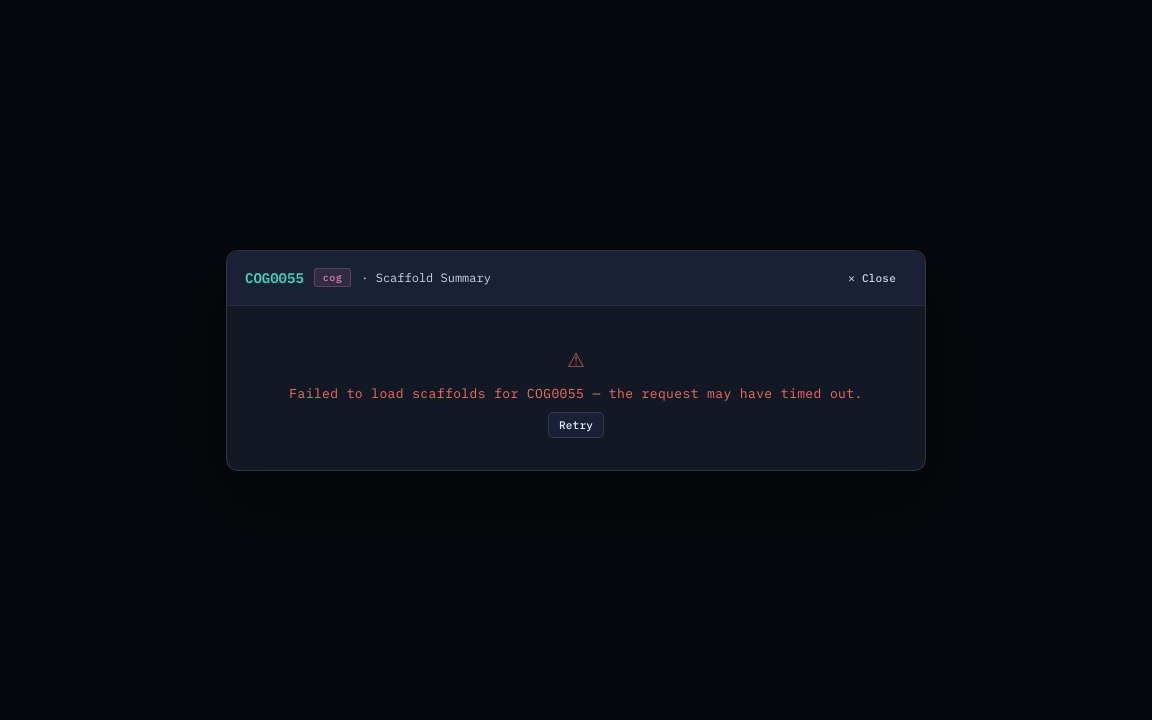
it: ScaffoldModal — loading / error / empty states › clicking retry shows loading state again while in flight
Step 1. Click the button with test id "retry-btn" → click(576, 424), box [548, 412, 604, 438]
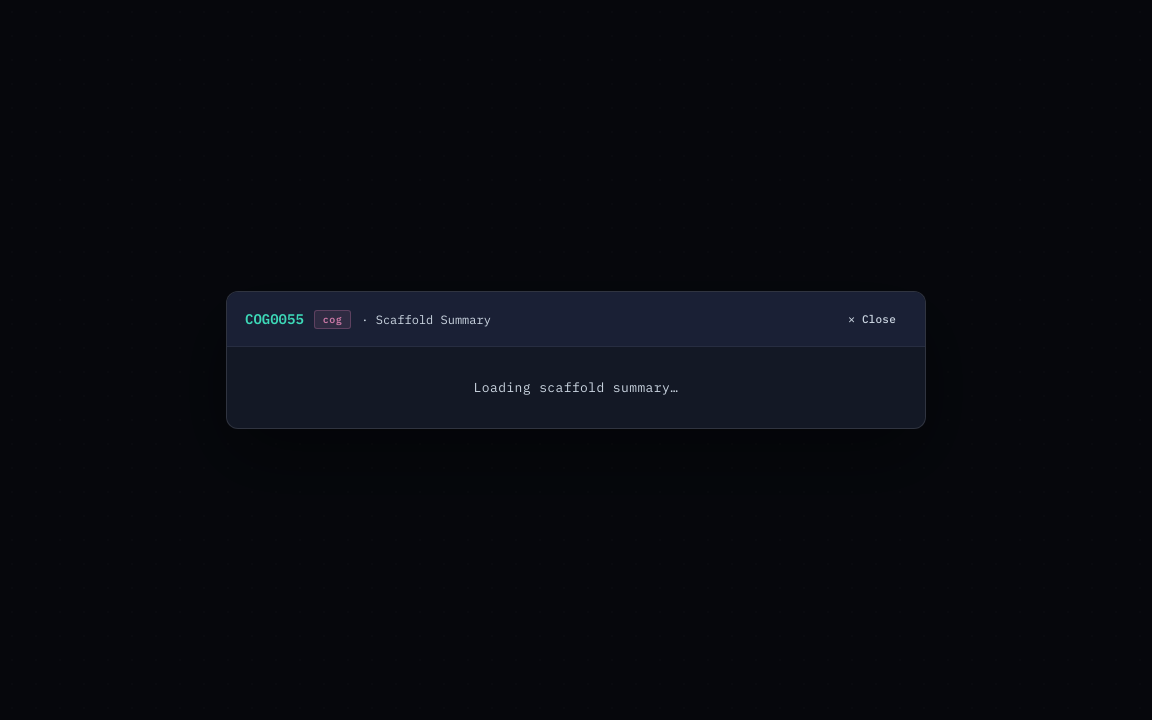
Expected: the element with test id "loading-state" is shown, [474, 379, 678, 396]
